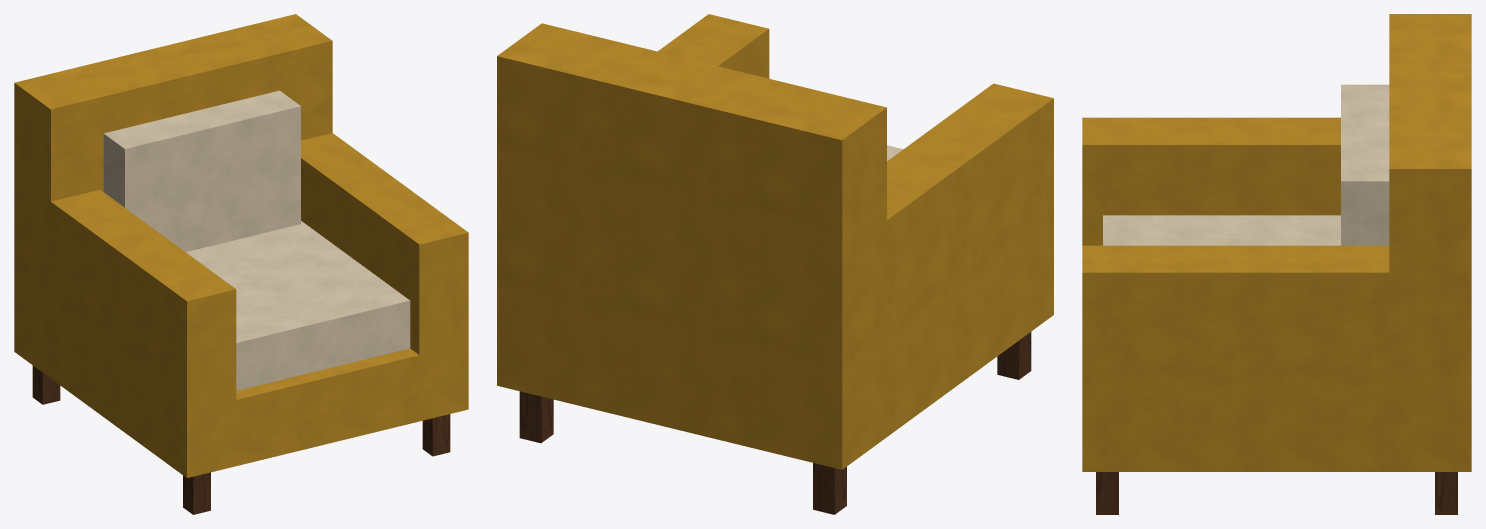
3 renders of one model, left to right at view 1: azimuth 30°, elevation 25°; view 2: azimuth 150°, elevation 25°; view 3: azimuth 270°, elevation 25°, orthographic. The views are drawn at different scales.
Parts seen in each view (by area): view 1: Armchair_Game; view 2: Armchair_Game; view 3: Armchair_Game.
Part boxes in pixels (<box>): Armchair_Game: <box>14,14,468,514</box>; Armchair_Game: <box>497,14,1053,514</box>; Armchair_Game: <box>1082,14,1471,514</box>.
Bounding box in the file's own units: 0.8 × 0.85 × 0.85.
3 materials, 3 textured.
